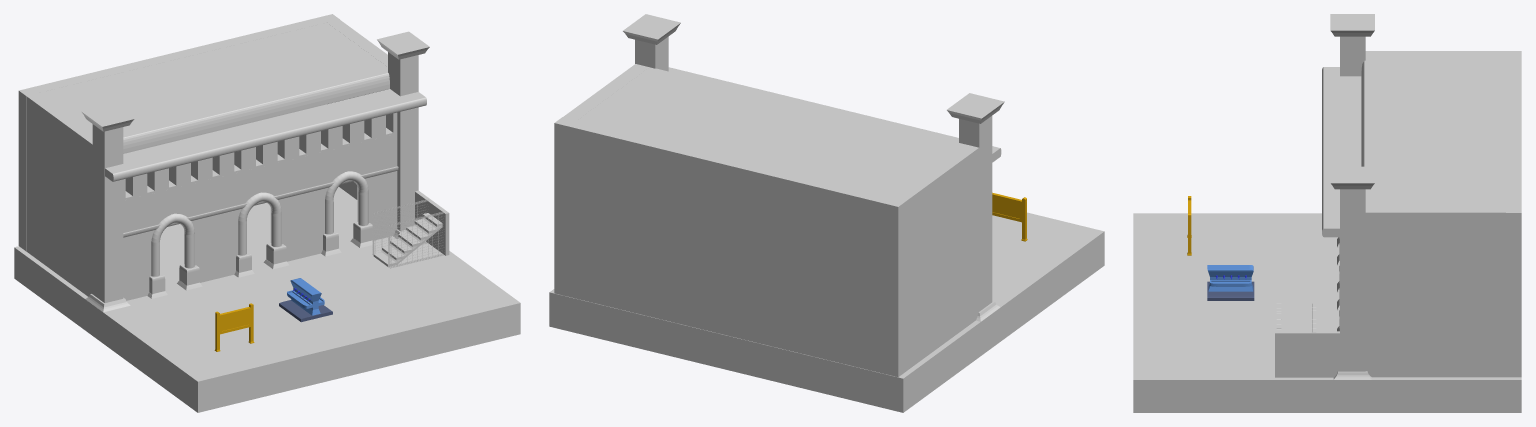
File: railwaystation.fbx
3 views of the same model, side by side, from view 1: azimuth 30°, elevation 25°; view 2: azimuth 150°, elevation 25°; view 3: azimuth 270°, elevation 25° (orthographic). The views are drawn at different scales.
Visible parts, largest first — view 1: Station, Platform, Mesh, Stairs, Drinking water faucet, Board; view 2: Station, Platform, Board; view 3: Station, Platform, Mesh, Drinking water faucet.
Part boxes in pixels (x1=…): Station: x1=18, y1=14, x2=429, y2=312; Platform: x1=14, y1=187, x2=520, y2=412; Mesh: x1=372, y1=190, x2=449, y2=268; Stairs: x1=373, y1=213, x2=442, y2=266; Drinking water faucet: x1=279, y1=278, x2=332, y2=322; Board: x1=214, y1=303, x2=254, y2=351; Station: x1=554, y1=14, x2=1004, y2=377; Platform: x1=549, y1=212, x2=1104, y2=412; Board: x1=992, y1=192, x2=1027, y2=241; Station: x1=1322, y1=14, x2=1521, y2=379; Platform: x1=1133, y1=213, x2=1521, y2=412; Mesh: x1=1275, y1=303, x2=1339, y2=377; Drinking water faucet: x1=1207, y1=265, x2=1254, y2=300.
Size of what is drawn, in the model's own units: 6123 by 3899 by 5943.
